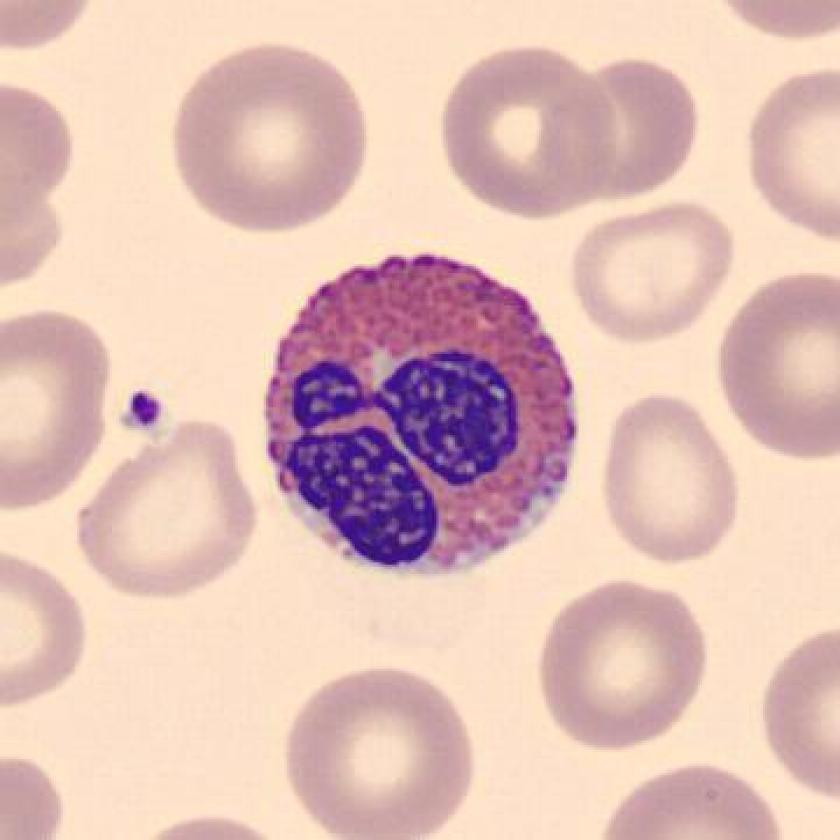eosinophil: (248, 244, 594, 596)
